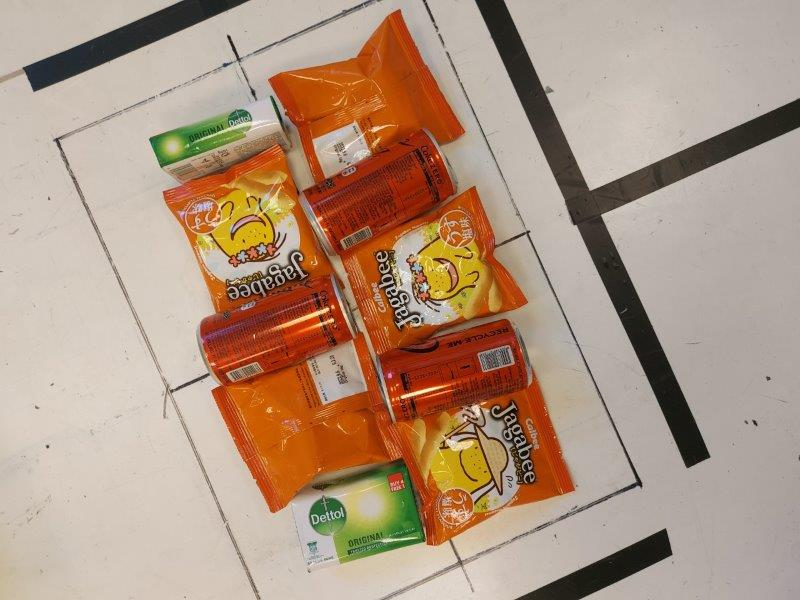Coke: (296, 132, 457, 259), (195, 277, 358, 385), (372, 320, 534, 425)
Dettol: (288, 463, 426, 574), (150, 98, 291, 184)
Jagabee: (268, 9, 465, 185), (213, 334, 397, 512), (337, 187, 529, 354), (385, 377, 573, 545), (163, 146, 344, 319)
